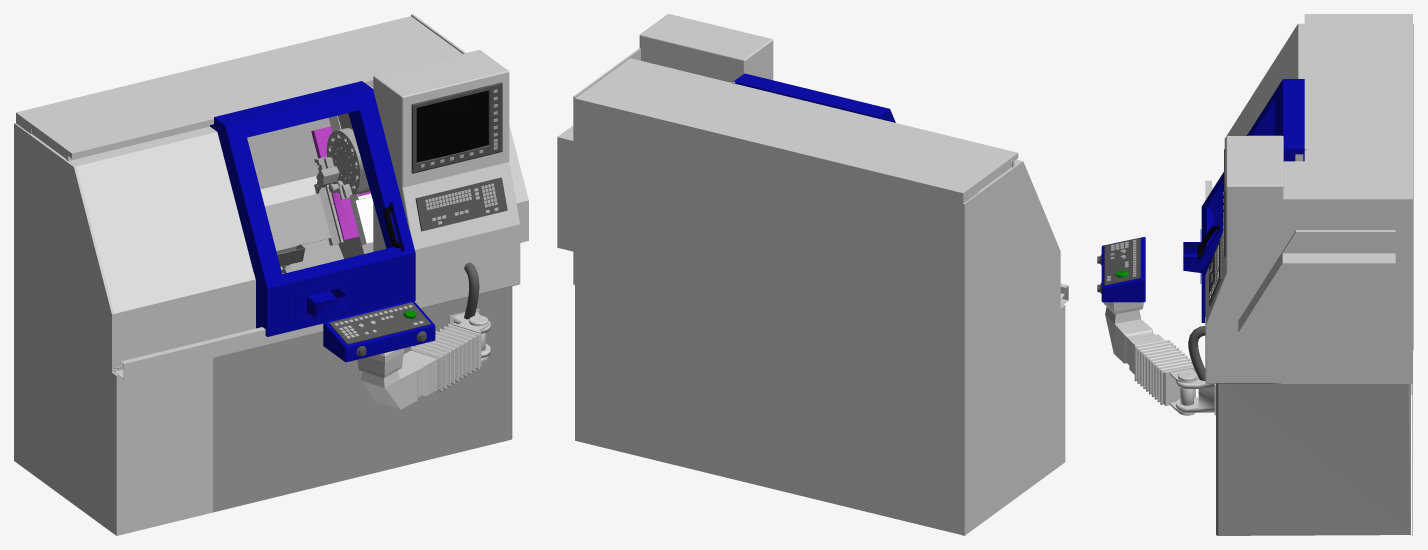
Rendered from somab.glb.
3 renders of one model, left to right at view 1: azimuth 30°, elevation 25°; view 2: azimuth 150°, elevation 25°; view 3: azimuth 270°, elevation 25°, orthographic. The views are drawn at different scales.
Parts seen in each view (by area): view 1: Importée002, Plane, Cube.019, Importée1.001, Cube.018, Cube.012, Importée1.000, Importée1.039, Cube.013, Cube.005, Cube.009, Importée1.089 (+12 smaller); view 2: Importée1.039, Plane, Cube.019, Cube.012, Importée1.045, Cube.018; view 3: Importée002, Importée1.045, Cube.019, Cube.012, Cube.018, Cube.009, Importée1.001, Cube.008, Importée1.000, Cube.015, Cube.001, Cube.016 (+5 smaller).
Boxes of the visible parts, x1=… form: Importée002: x1=213, y1=236, x2=512, y2=512; Plane: x1=14, y1=123, x2=118, y2=535; Cube.019: x1=16, y1=16, x2=462, y2=160; Importée1.001: x1=76, y1=132, x2=255, y2=313; Cube.018: x1=210, y1=81, x2=415, y2=336; Cube.012: x1=373, y1=50, x2=520, y2=308; Importée1.000: x1=31, y1=80, x2=373, y2=379; Importée1.039: x1=16, y1=113, x2=212, y2=535; Cube.013: x1=411, y1=82, x2=507, y2=231; Cube.005: x1=416, y1=90, x2=488, y2=162; Cube.009: x1=357, y1=348, x2=437, y2=409; Importée1.089: x1=265, y1=184, x2=343, y2=250; Importée1.039: x1=575, y1=103, x2=978, y2=534; Plane: x1=962, y1=160, x2=1065, y2=535; Cube.019: x1=575, y1=58, x2=1018, y2=198; Cube.012: x1=639, y1=14, x2=773, y2=82; Importée1.045: x1=557, y1=48, x2=640, y2=284; Cube.018: x1=733, y1=73, x2=895, y2=122; Importée002: x1=1216, y1=383, x2=1410, y2=535; Importée1.045: x1=1238, y1=198, x2=1412, y2=383; Cube.019: x1=1304, y1=14, x2=1412, y2=198; Cube.012: x1=1205, y1=135, x2=1283, y2=383; Cube.018: x1=1196, y1=79, x2=1304, y2=322; Cube.009: x1=1101, y1=281, x2=1164, y2=374; Importée1.001: x1=1224, y1=25, x2=1298, y2=148; Cube.008: x1=1134, y1=339, x2=1193, y2=404; Importée1.000: x1=1205, y1=24, x2=1306, y2=200; Cube.015: x1=1101, y1=237, x2=1145, y2=302; Cube.001: x1=1176, y1=371, x2=1215, y2=415; Cube.016: x1=1097, y1=238, x2=1140, y2=293.
Bounding box in the file's own units: 2.01 × 1.65 × 1.35.
